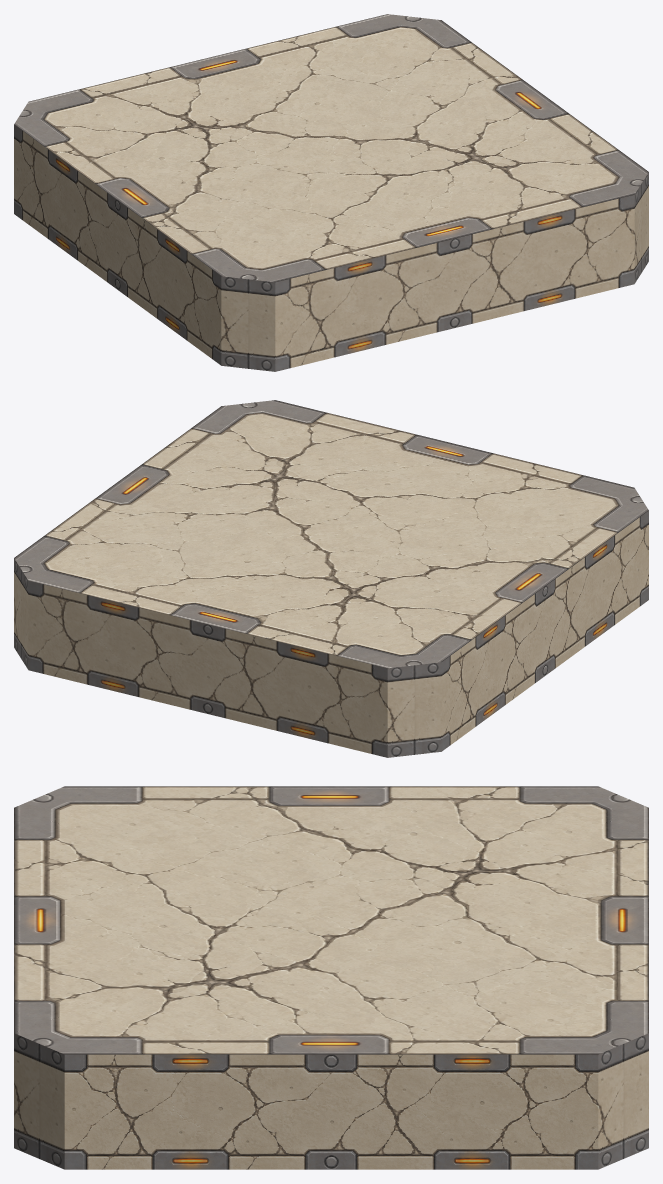
File: break_platform.obj
3 renders of one model, top to bottom at view 1: azimuth 30°, elevation 25°; view 2: azimuth 150°, elevation 25°; view 3: azimuth 270°, elevation 25°, orthographic. The views are drawn at different scales.
Parts seen in each view (by area): view 1: BreakPlatform; view 2: BreakPlatform; view 3: BreakPlatform.
Part boxes in pixels (box(x1,y1,x2,y2)): BreakPlatform: box(14, 14, 648, 371); BreakPlatform: box(14, 400, 648, 757); BreakPlatform: box(14, 786, 648, 1169).
Size of the model in its own units: 1 by 0.2 by 1.
2 materials, 2 textured.
